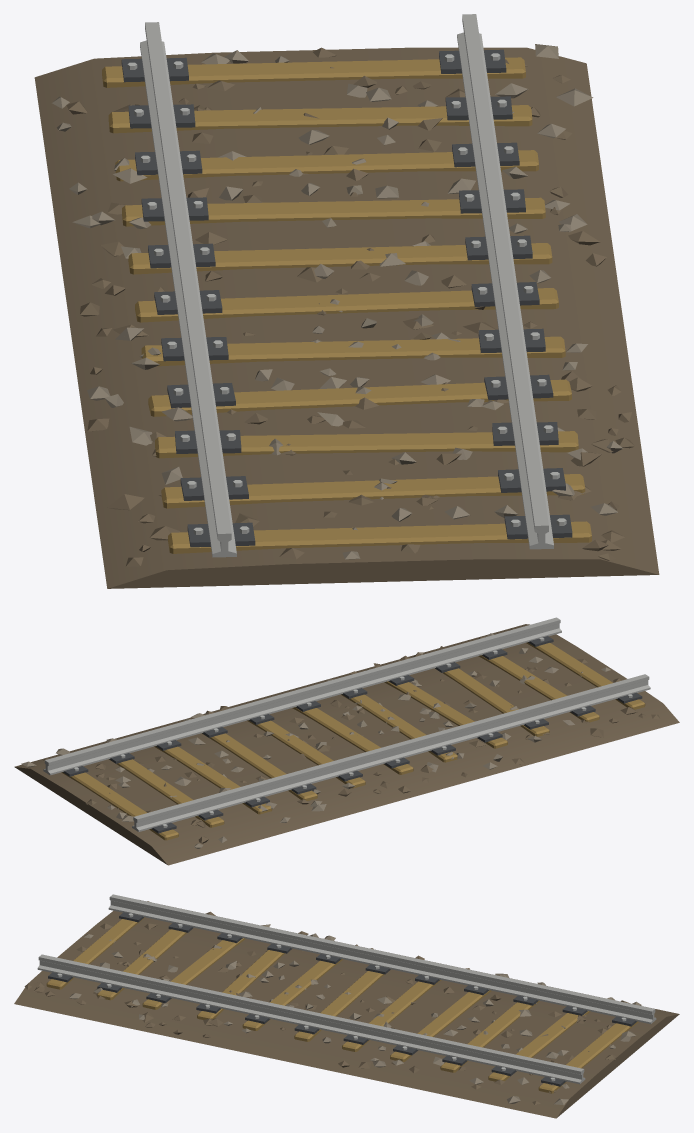
The model's file is half-diagonal-rail-ne.glb.
The picture shows the model from 3 angles, top to bottom: view 1: azimuth 30°, elevation 25°; view 2: azimuth 150°, elevation 25°; view 3: azimuth 270°, elevation 25°; orthographic projection. The views are drawn at different scales.
Parts seen in each view (by area): view 1: body; view 2: body; view 3: body.
Part boxes in pixels (x1,y1,x2,y2): body: [34, 14, 659, 588]; body: [14, 617, 679, 865]; body: [14, 894, 679, 1118].
Size of the model in its own units: 3.82 by 0.214 by 4.91.
